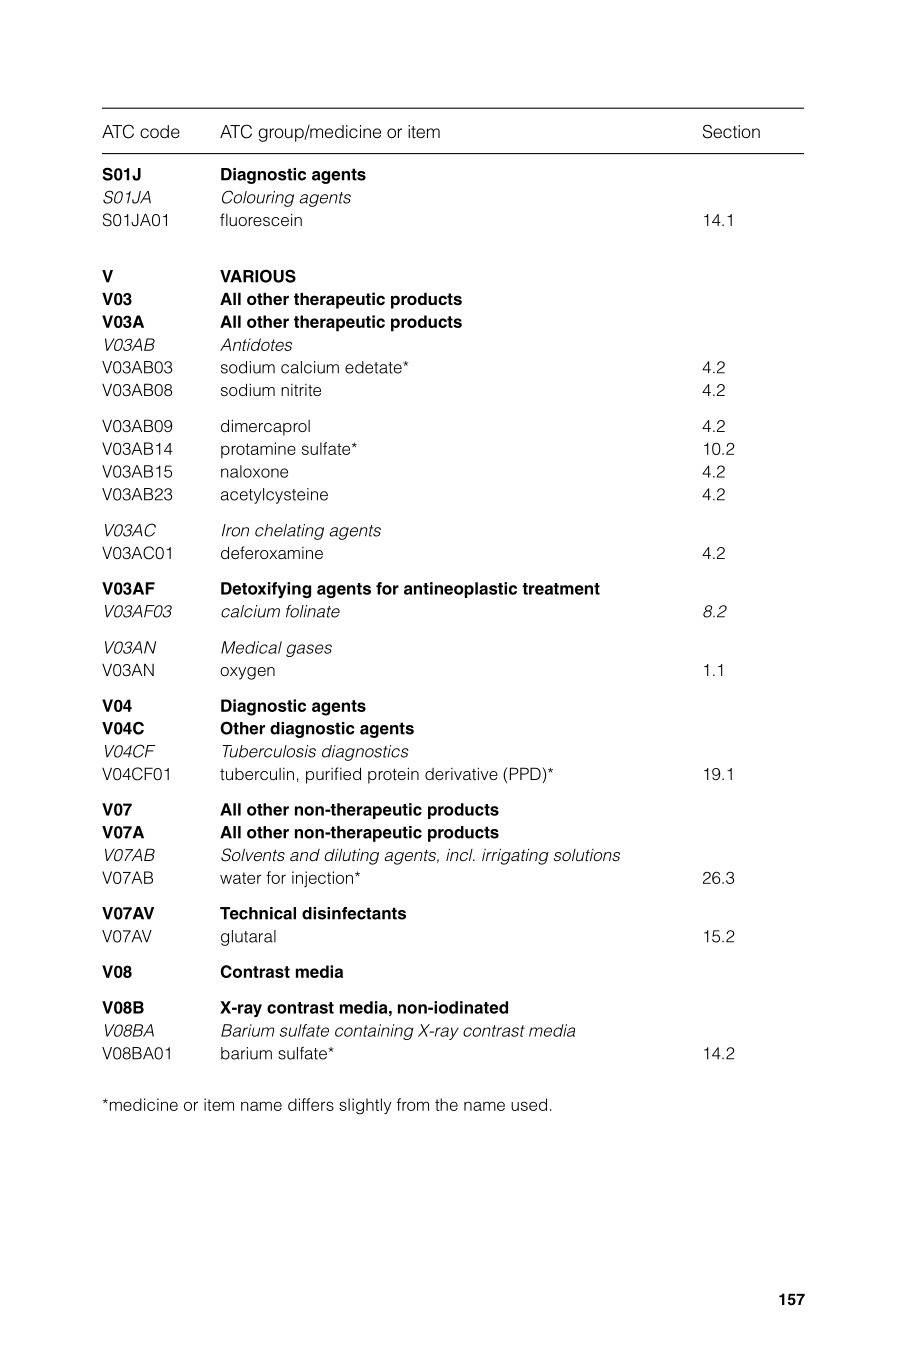partial_lined: (99, 107, 805, 1072)
